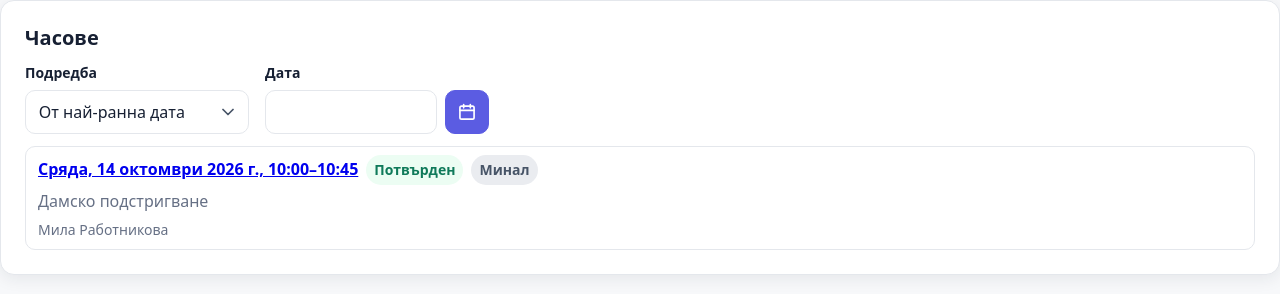
it: Customer Appointment history: order and date › applies a date chosen in the calendar and shows it as text
Expected: the list is shown, top-left (25, 146), bottom-right (1255, 250)
Type "2026-12-05" into the date field labelled "Дата" at (377, 98), box top-left (265, 63), bottom-right (489, 134)
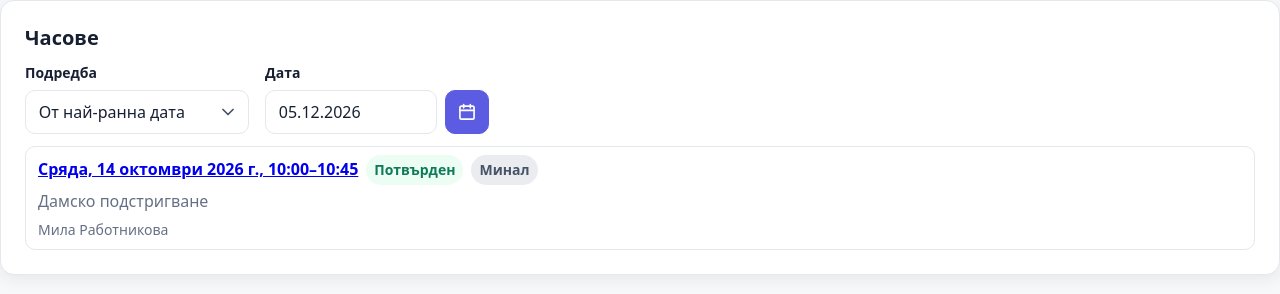
Now the field labelled "Дата" holds "05.12.2026", box top-left (265, 90), bottom-right (437, 134)
